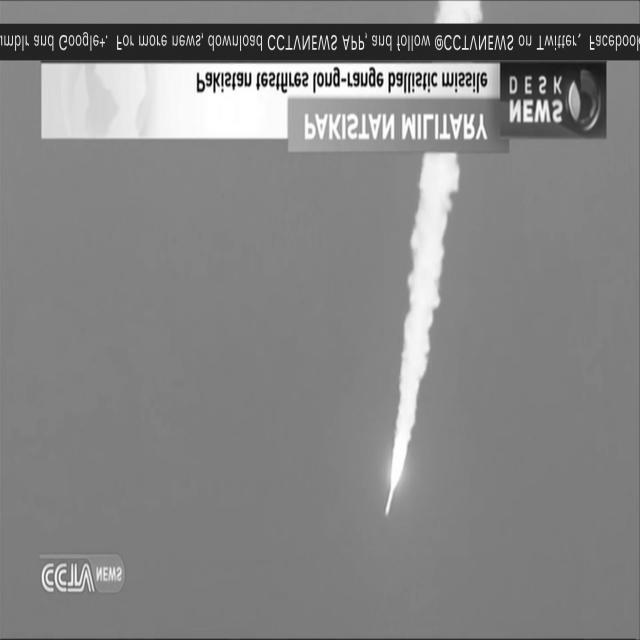missile: (384, 479, 396, 522)
